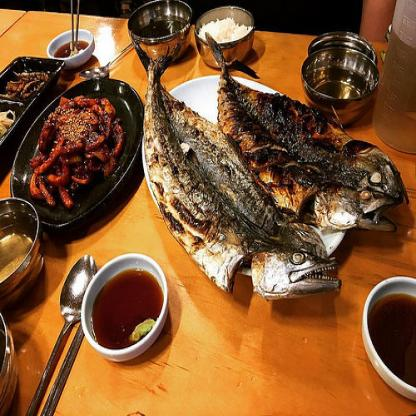Peixe: (142, 58, 412, 304)
